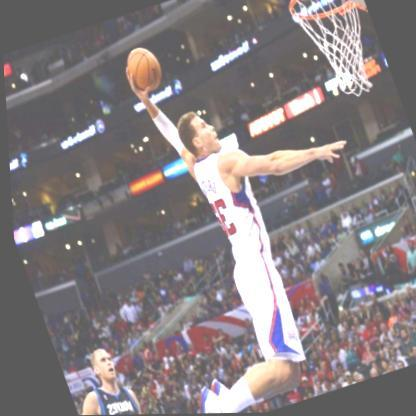basketball: (120, 43, 167, 96)
rim: (285, 0, 384, 107)
